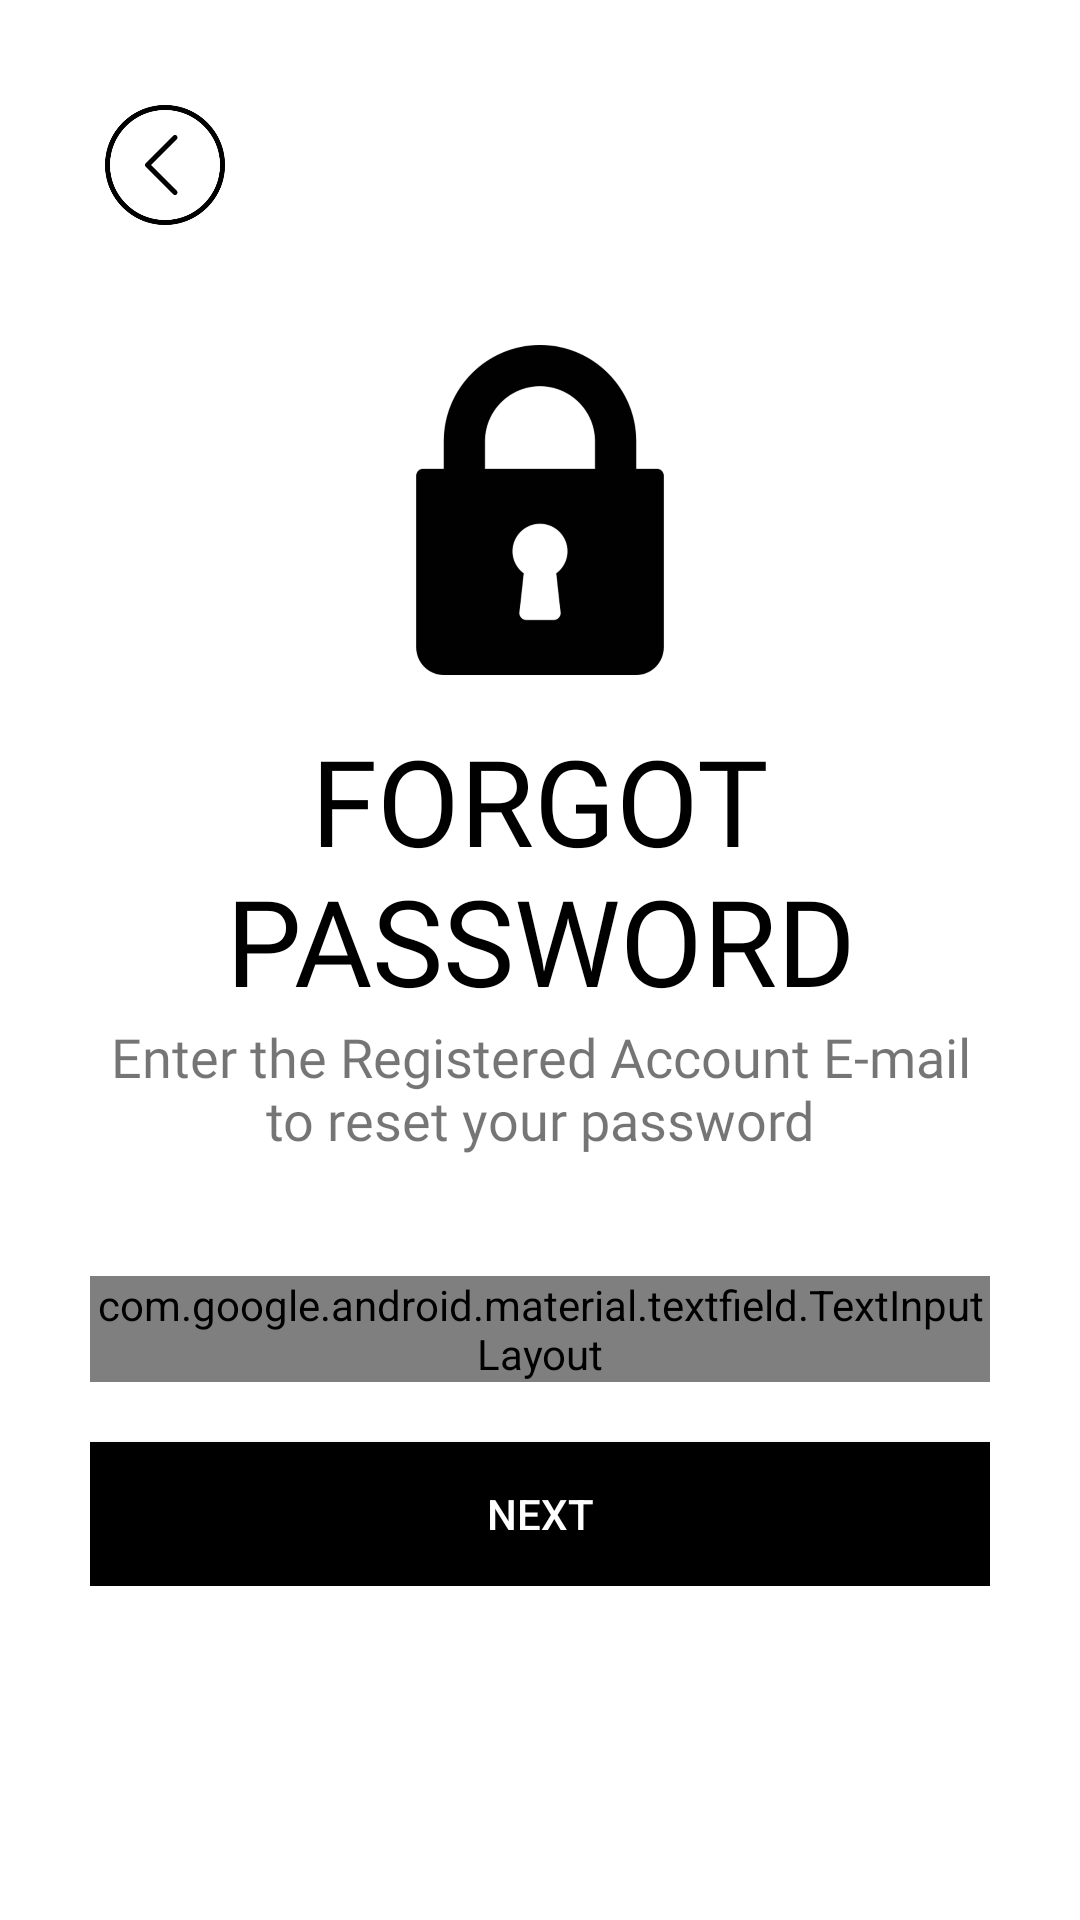

Named icons in this screenshot (1080x1920) and their bounding boxes, Rect(x1, y1, x2, y2):
backicon: Rect(105, 105, 225, 225)
lock: Rect(416, 345, 664, 675)
